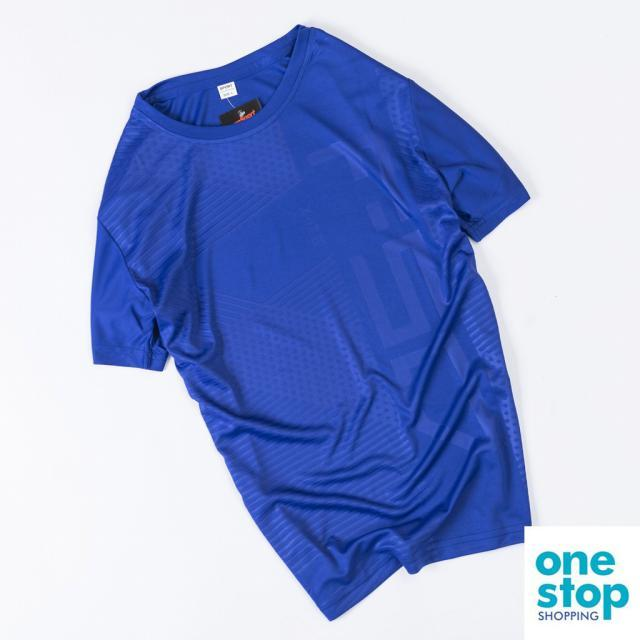Shirt: (92, 26, 546, 622)
